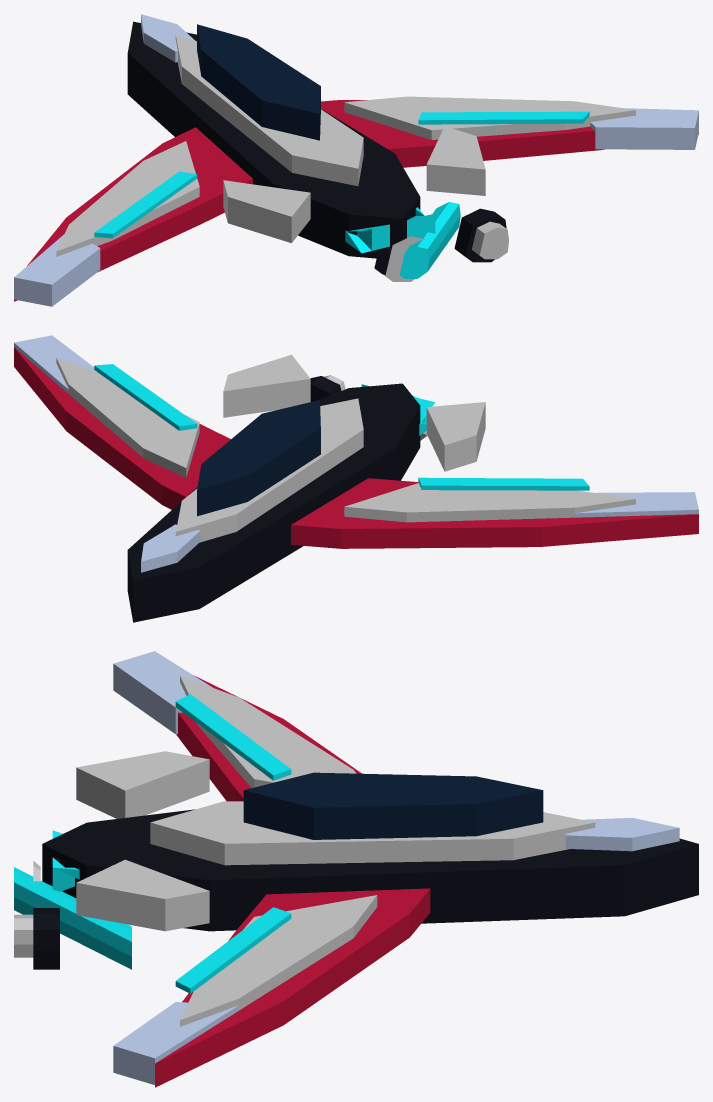
The model's file is ship.obj.
3 views of the same model, one above another, from view 1: azimuth 30°, elevation 25°; view 2: azimuth 150°, elevation 25°; view 3: azimuth 270°, elevation 25° (orthographic). The views are drawn at different scales.
Parts seen in each view (by area): view 1: fuselage, canopy, upper_spine, wing_left, wing_armor_right, wing_armor_left, wing_right, engine_fin_1, tip_right, tip_left, fin_left, engine_glow_-1 (+7 smaller); view 2: fuselage, wing_left, canopy, wing_armor_left, wing_right, upper_spine, wing_armor_right, fin_left, engine_fin_1, strip_left, tip_left, strip_right (+3 smaller); view 3: fuselage, canopy, upper_spine, wing_right, wing_armor_right, fin_left, engine_fin_1, wing_armor_left, engine_glow_-1, tip_right, tip_left, wing_left (+6 smaller).
Part boxes in pixels (bbox=[...]): fuselage: bbox=[127, 21, 420, 258]; canopy: bbox=[197, 24, 320, 140]; upper_spine: bbox=[175, 35, 363, 186]; wing_left: bbox=[14, 127, 252, 301]; wing_armor_right: bbox=[344, 96, 635, 139]; wing_armor_left: bbox=[56, 141, 199, 256]; wing_right: bbox=[321, 100, 698, 167]; engine_fin_1: bbox=[223, 180, 310, 243]; tip_right: bbox=[590, 108, 698, 149]; tip_left: bbox=[14, 235, 100, 306]; fin_left: bbox=[426, 126, 485, 195]; engine_glow_-1: bbox=[399, 202, 460, 278]; fuselage: bbox=[127, 383, 420, 622]; wing_left: bbox=[291, 478, 698, 548]; canopy: bbox=[197, 400, 320, 516]; wing_armor_left: bbox=[344, 483, 635, 522]; wing_right: bbox=[14, 347, 230, 509]; upper_spine: bbox=[175, 398, 363, 542]; wing_armor_right: bbox=[56, 357, 199, 477]; fin_left: bbox=[223, 354, 310, 417]; engine_fin_1: bbox=[426, 402, 485, 471]; strip_left: bbox=[418, 477, 589, 490]; tip_left: bbox=[574, 492, 698, 517]; strip_right: bbox=[94, 364, 197, 430]; fuselage: bbox=[42, 809, 698, 931]; canopy: bbox=[243, 772, 543, 839]; upper_spine: bbox=[150, 801, 595, 865]; wing_right: bbox=[155, 888, 430, 1087]; wing_armor_right: bbox=[180, 895, 377, 1026]; fin_left: bbox=[76, 859, 209, 931]; engine_fin_1: bbox=[76, 751, 209, 818]; wing_armor_left: bbox=[180, 676, 356, 787]; engine_glow_-1: bbox=[14, 867, 131, 969]; tip_right: bbox=[113, 1002, 239, 1084]; tip_left: bbox=[113, 651, 212, 734]; wing_left: bbox=[176, 675, 361, 801].
Size of the model in its own units: 6.5 by 0.9654 by 4.62.
